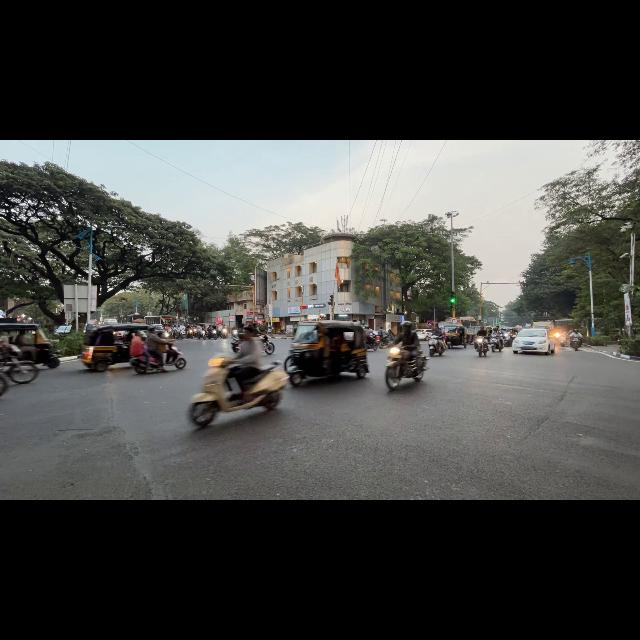bus: (145, 315, 177, 327), (456, 317, 477, 327), (458, 317, 477, 327), (126, 314, 145, 323)
car: (512, 329, 555, 354), (54, 325, 72, 337), (414, 329, 432, 340), (103, 319, 117, 324)
motorcycle: (188, 358, 287, 426), (385, 347, 429, 390), (0, 345, 38, 383), (130, 355, 160, 373), (428, 335, 446, 357), (476, 337, 489, 356), (489, 334, 503, 351), (377, 334, 393, 348), (0, 372, 8, 396), (263, 337, 274, 354), (554, 332, 566, 346), (367, 336, 378, 350), (376, 336, 388, 348), (502, 332, 511, 347), (231, 339, 241, 352), (172, 328, 183, 339), (186, 327, 197, 338), (571, 337, 580, 350), (207, 328, 217, 339), (197, 328, 206, 339), (221, 328, 227, 338), (232, 329, 238, 339), (278, 329, 286, 334)
